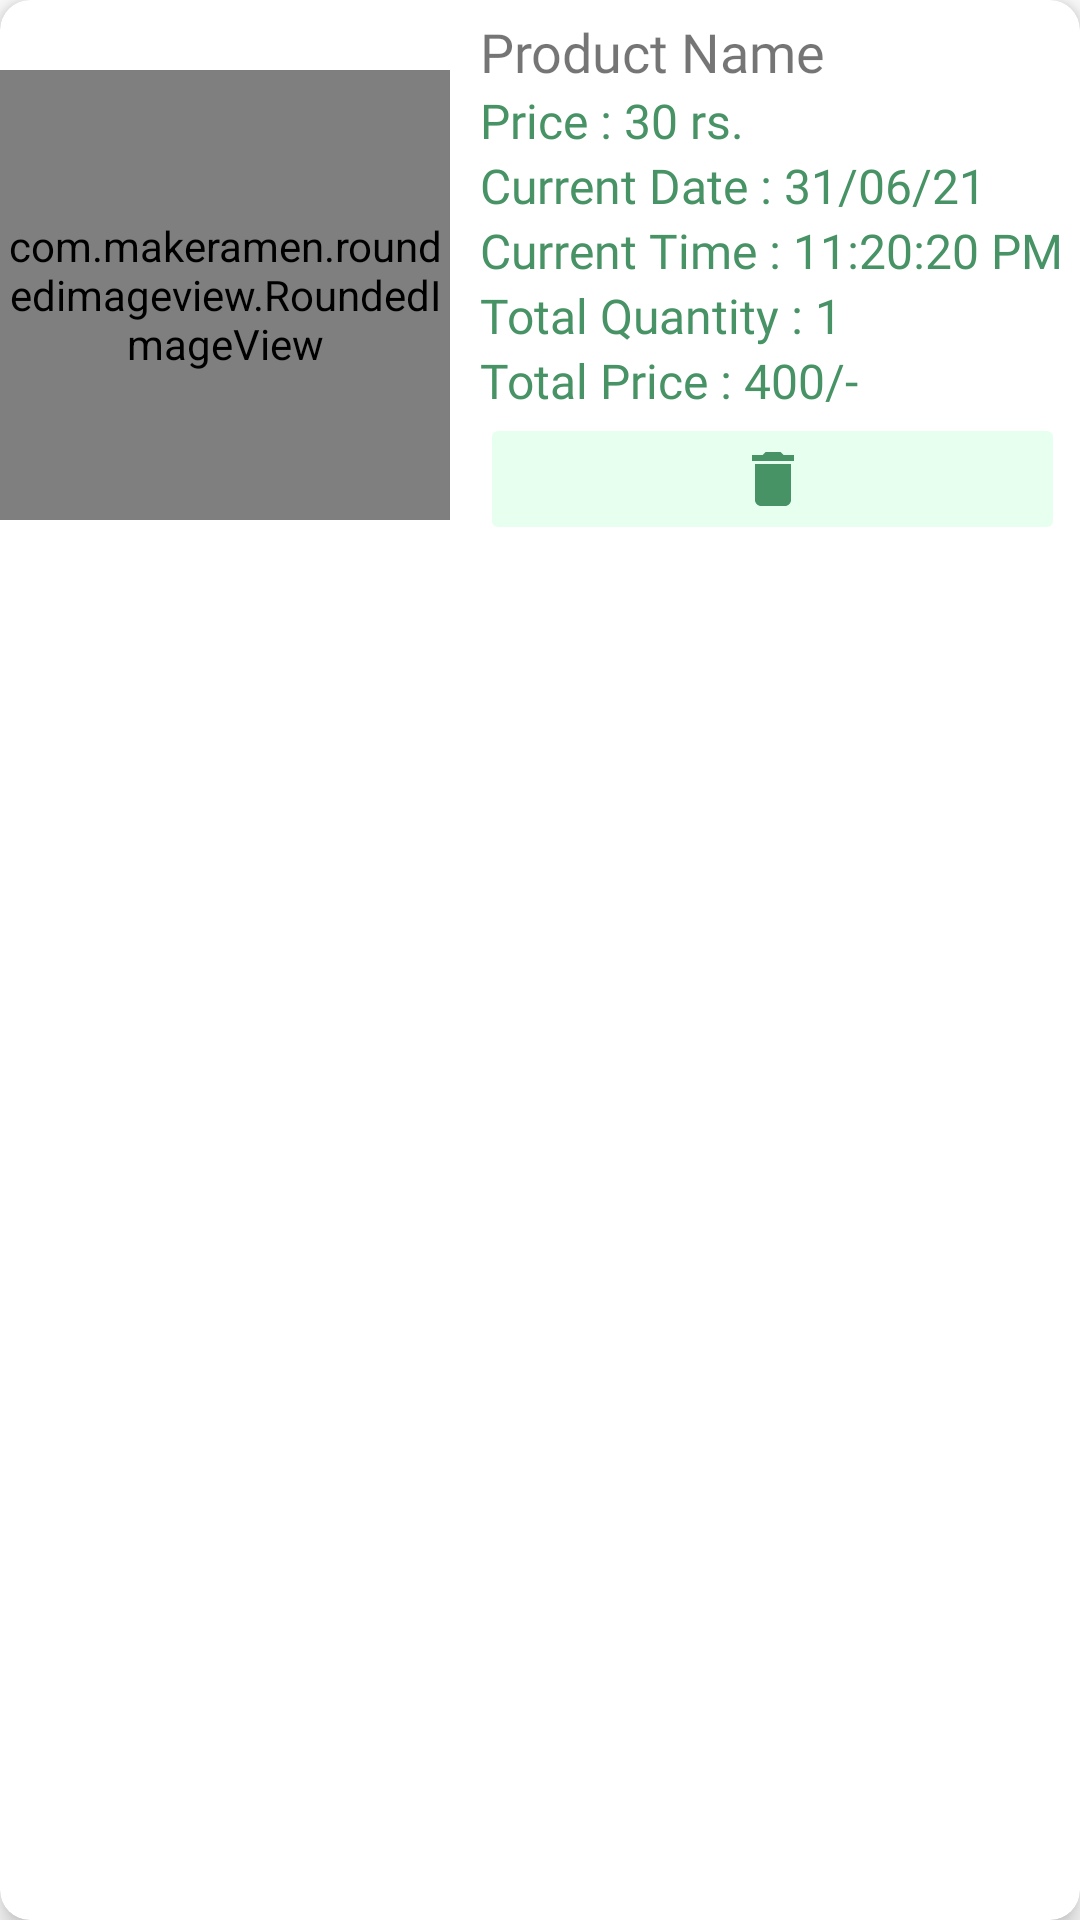

Where icons sit on this 1080px x 1920px app screen, as bbox=(x1, y1, x2, y2):
delete: bbox=(752, 452, 794, 506)
